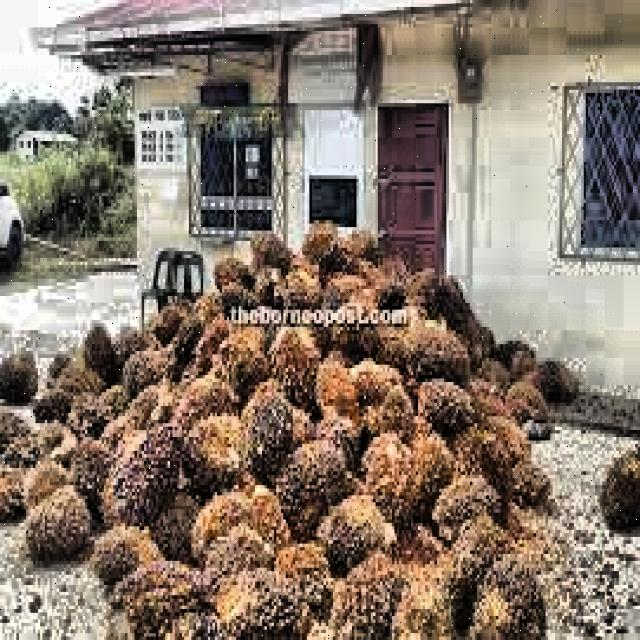FFB: (391, 556, 552, 640), (106, 429, 179, 526), (111, 566, 206, 640), (205, 569, 304, 640), (277, 445, 350, 539), (243, 381, 301, 484), (320, 569, 403, 640), (363, 442, 416, 547), (319, 494, 389, 567), (185, 418, 249, 493), (274, 325, 322, 412), (432, 474, 498, 534), (31, 487, 89, 554), (206, 528, 272, 586), (413, 427, 453, 522), (276, 550, 335, 610), (196, 498, 254, 553), (452, 524, 515, 570), (322, 356, 360, 429), (603, 457, 640, 524), (423, 380, 470, 424), (91, 534, 141, 575), (26, 464, 70, 510), (383, 386, 414, 438), (87, 327, 115, 381)
